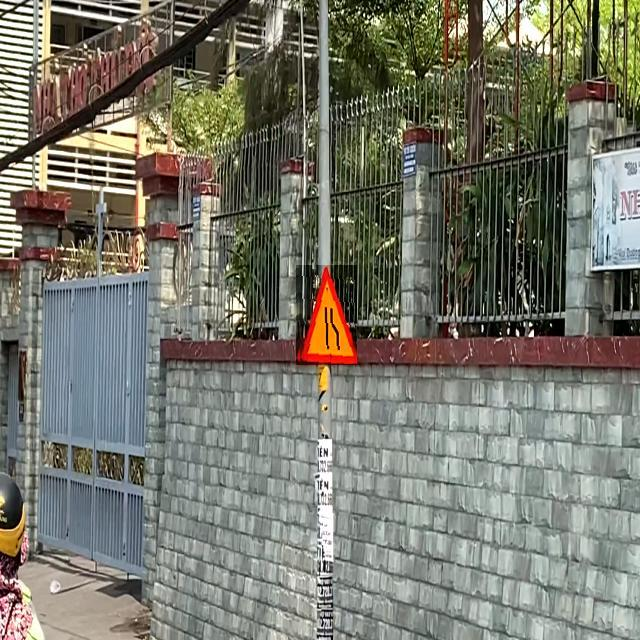W-203c: (296, 266, 357, 366)
